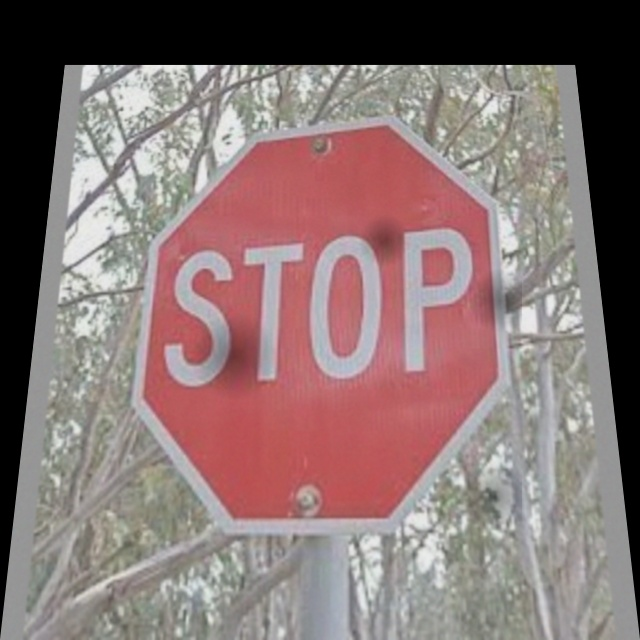Stop: (128, 118, 522, 532)
